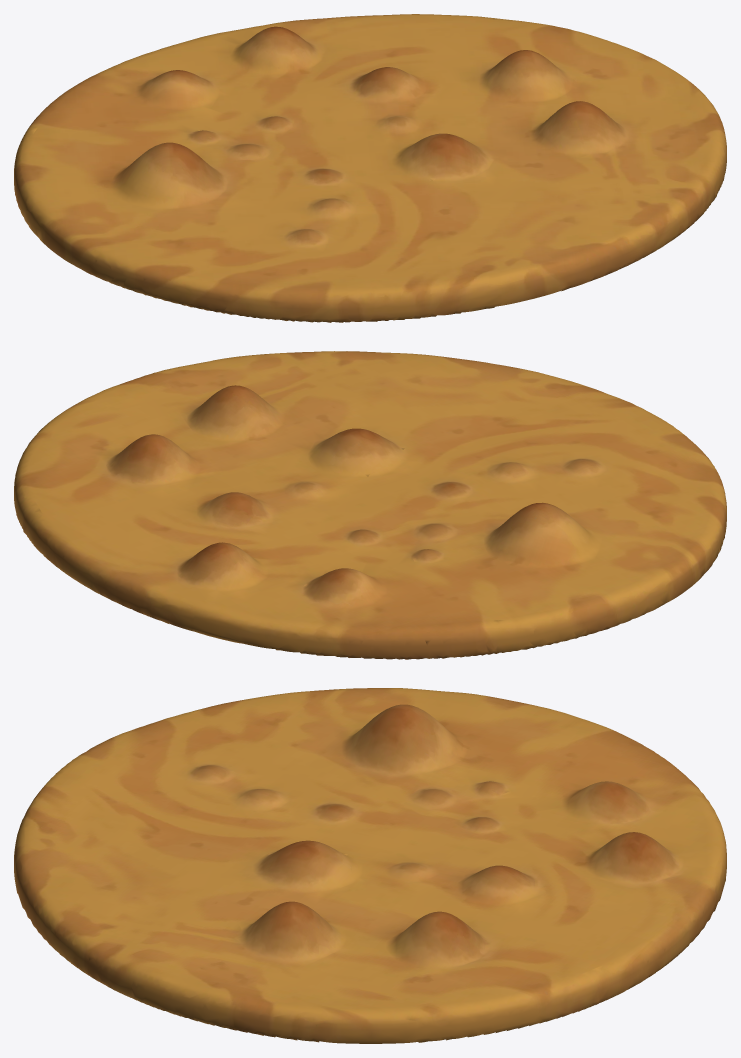
Rendered from flatbread--sweetpotato-puree.glb.
The picture shows the model from 3 angles, top to bottom: view 1: azimuth 30°, elevation 25°; view 2: azimuth 150°, elevation 25°; view 3: azimuth 270°, elevation 25°; orthographic projection. The views are drawn at different scales.
Parts seen in each view (by area): view 1: flatbread_sweetpotato-puree; view 2: flatbread_sweetpotato-puree; view 3: flatbread_sweetpotato-puree.
Boxes of the visible parts, left/top/right/bottom form: flatbread_sweetpotato-puree: left=14, top=14, right=726, bottom=322; flatbread_sweetpotato-puree: left=14, top=351, right=726, bottom=659; flatbread_sweetpotato-puree: left=14, top=688, right=726, bottom=1043.
Bounding box in the file's own units: 0.9981 × 0.1039 × 0.9017.
Materials: 1 (1 with a texture image).
